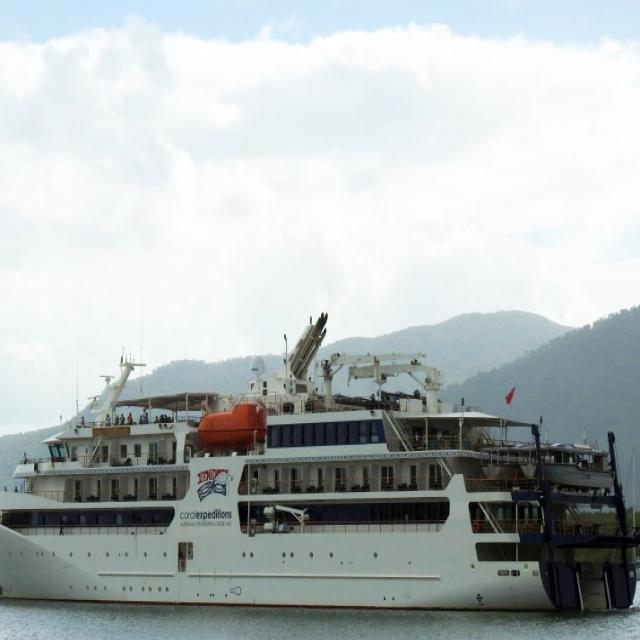cruises: (1, 319, 640, 631)
